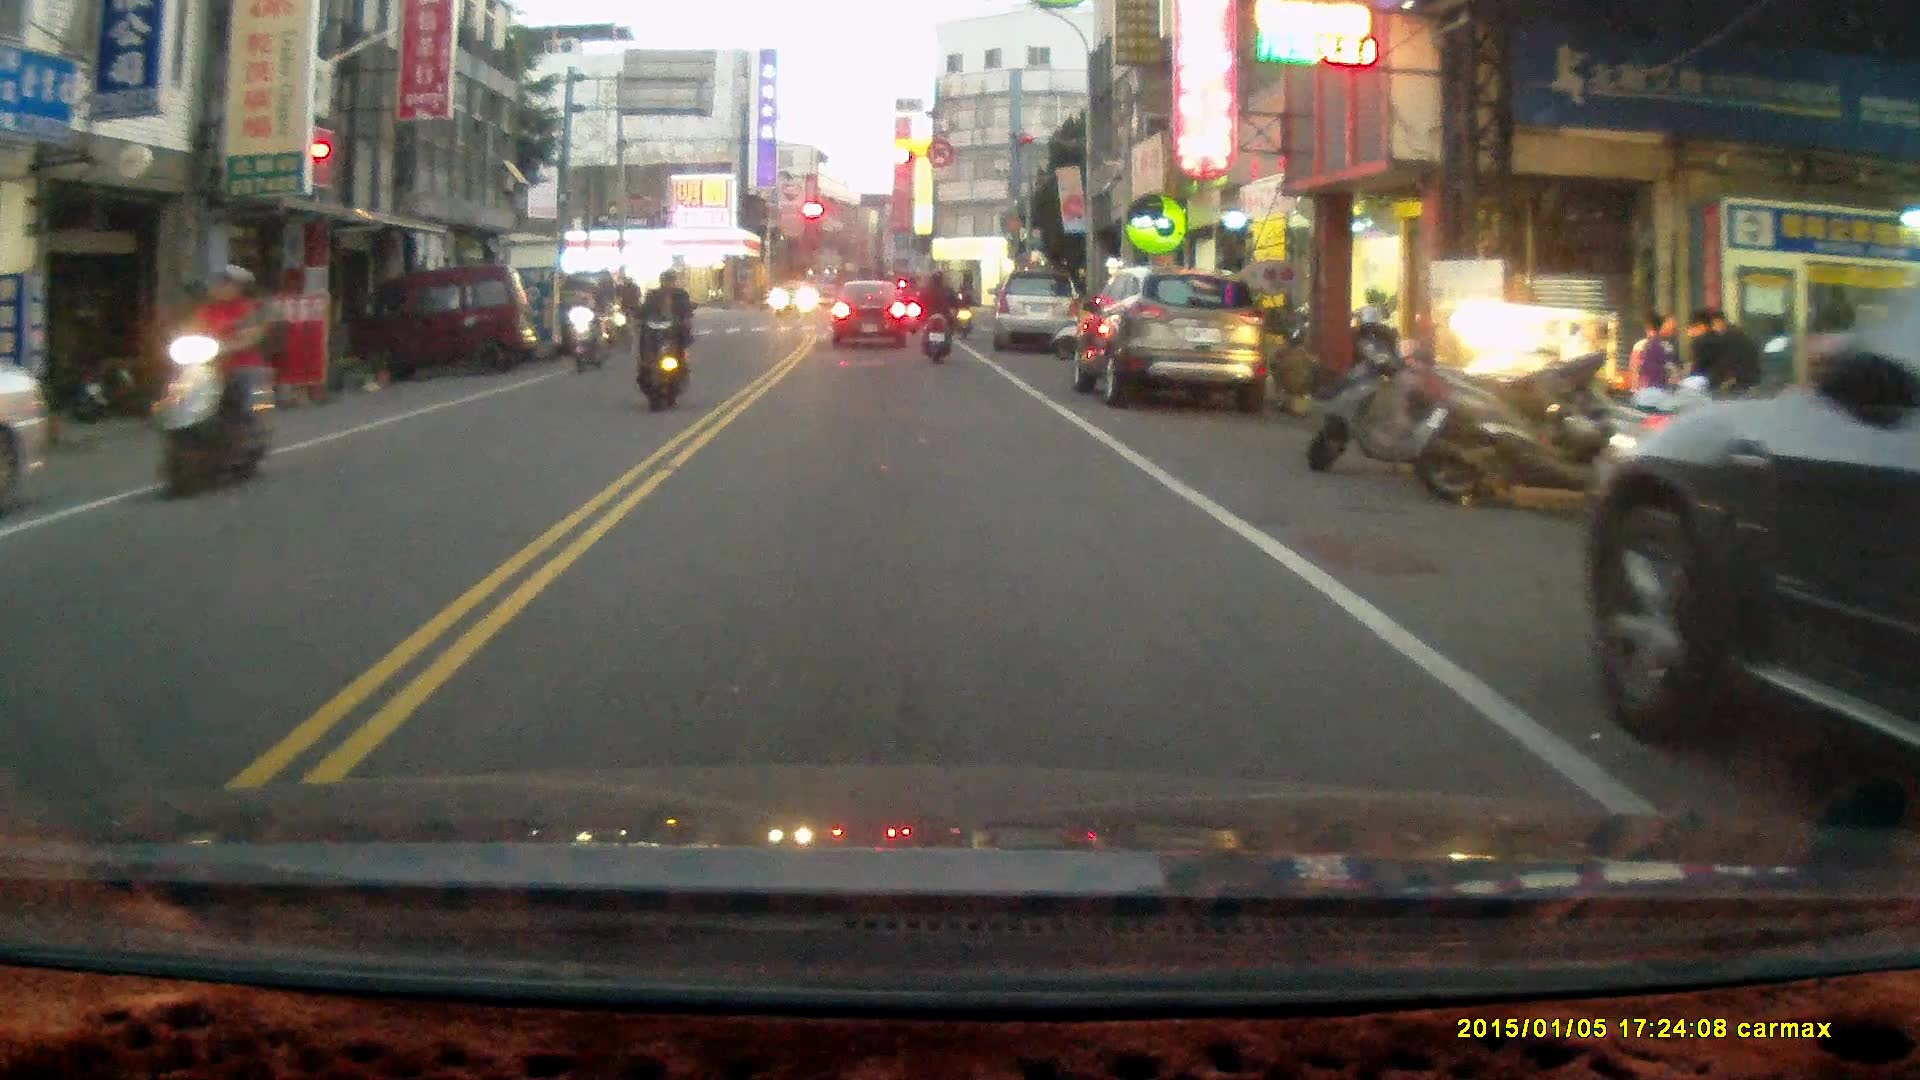pedestrian: (1684, 311, 1741, 448), (1628, 307, 1677, 444)
rider: (148, 258, 272, 502), (623, 267, 693, 413), (563, 272, 610, 374), (915, 266, 956, 367), (609, 272, 646, 355), (897, 271, 923, 331), (951, 280, 974, 340)
vehicle: (1580, 298, 1920, 817), (1074, 268, 1271, 412), (344, 267, 541, 381), (999, 269, 1083, 353)
